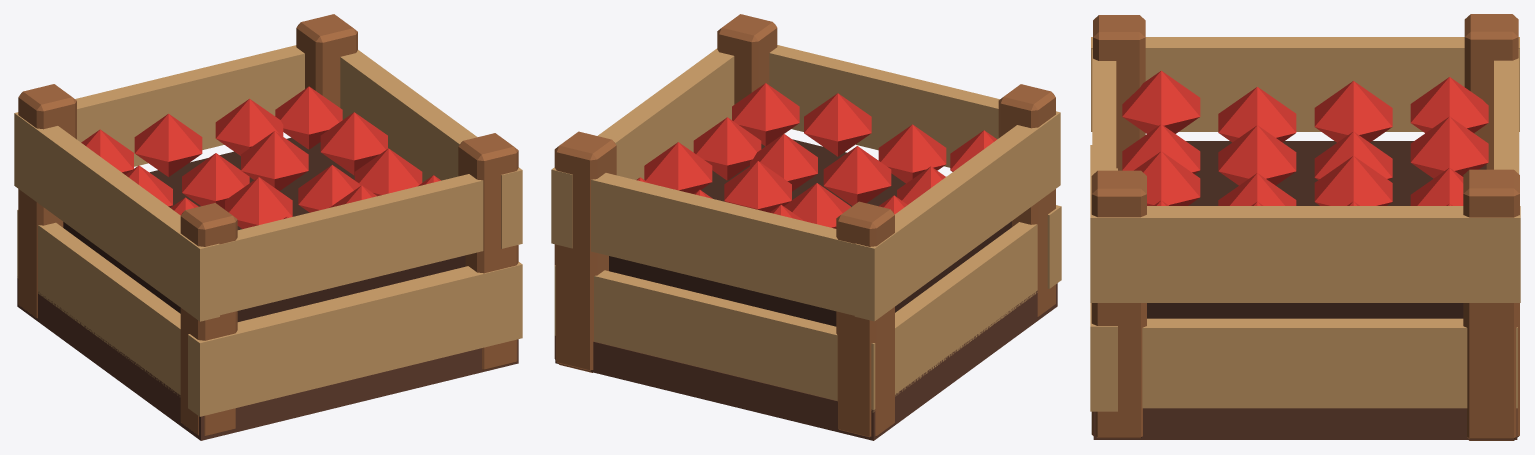
The model's file is Crate_Tomato.fbx.
3 renders of one model, left to right at view 1: azimuth 30°, elevation 25°; view 2: azimuth 150°, elevation 25°; view 3: azimuth 270°, elevation 25°, orthographic. The views are drawn at different scales.
Visible parts, largest first — view 1: Crate_Tomato; view 2: Crate_Tomato; view 3: Crate_Tomato.
Boxes of the visible parts, left/top/right/bottom form: Crate_Tomato: left=14, top=14, right=522, bottom=440; Crate_Tomato: left=551, top=14, right=1061, bottom=440; Crate_Tomato: left=1090, top=14, right=1520, bottom=440.
Bounding box in the file's own units: 0.7162 × 0.464 × 0.7162.
